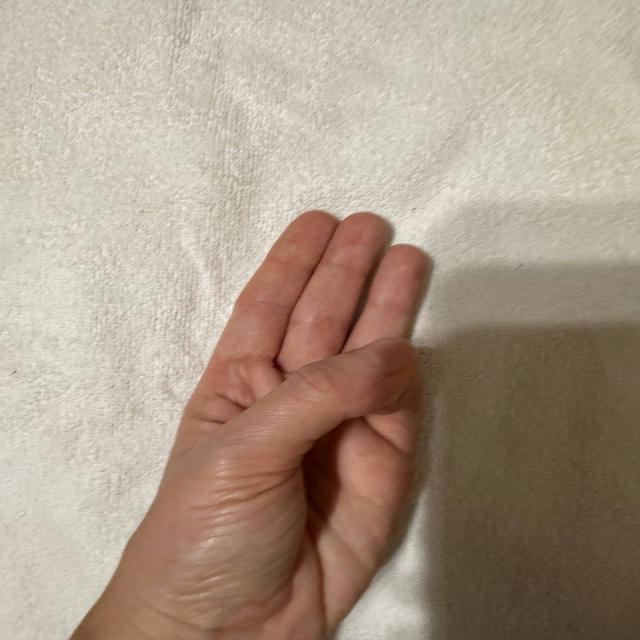sh: (171, 182, 442, 628)
